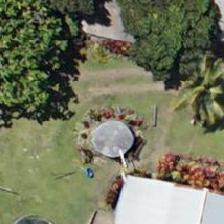coconut_tree: (158, 43, 223, 133)
